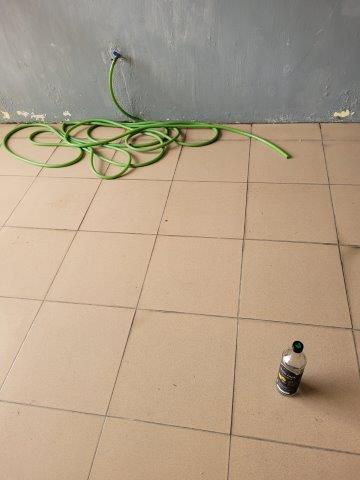botolkaca: (277, 341, 306, 397)
